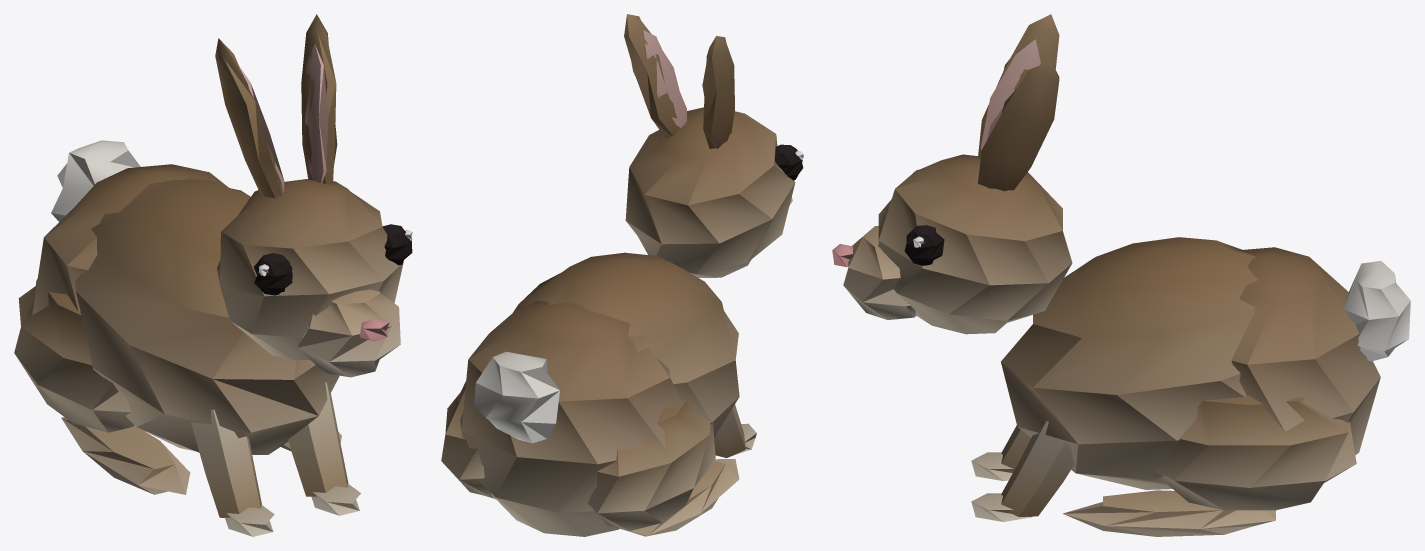
The model's file is rabbit.glb.
3 renders of one model, left to right at view 1: azimuth 30°, elevation 25°; view 2: azimuth 150°, elevation 25°; view 3: azimuth 270°, elevation 25°, orthographic. The views are drawn at different scales.
Parts seen in each view (by area): view 1: body, head, leg_BR, leg_FR, ear_L, leg_FL, ear_R, tail; view 2: body, head, leg_BR, tail, ear_L, ear_R, leg_BL, leg_FR; view 3: body, head, leg_BL, ear_L, leg_FL, tail, ear_R, leg_FR.
Boxes of the visible parts, box(x1,y1,x2,y2) form: body: box(32, 164, 339, 454); head: box(217, 179, 412, 377); leg_BR: box(14, 285, 190, 494); leg_FR: box(191, 409, 274, 536); ear_L: box(301, 14, 337, 184); leg_FL: box(288, 382, 360, 515); ear_R: box(215, 38, 284, 198); tail: box(51, 140, 140, 221); body: box(457, 252, 739, 536); head: box(625, 107, 803, 277); leg_BR: box(587, 401, 739, 536); tail: box(474, 351, 559, 443); ear_L: box(624, 14, 686, 138); ear_R: box(702, 36, 734, 148); leg_BL: box(441, 390, 495, 499); leg_FR: box(714, 404, 756, 457); body: box(1001, 237, 1380, 489); head: box(832, 154, 1072, 334); leg_BL: box(1063, 395, 1356, 536); ear_L: box(977, 60, 1059, 191); leg_FL: box(971, 421, 1073, 521); tail: box(1343, 261, 1410, 361); ear_R: box(978, 14, 1059, 159); leg_FR: box(971, 425, 1030, 480).
Bounding box in the file's own units: 0.5869 × 1.05 × 1.2.
